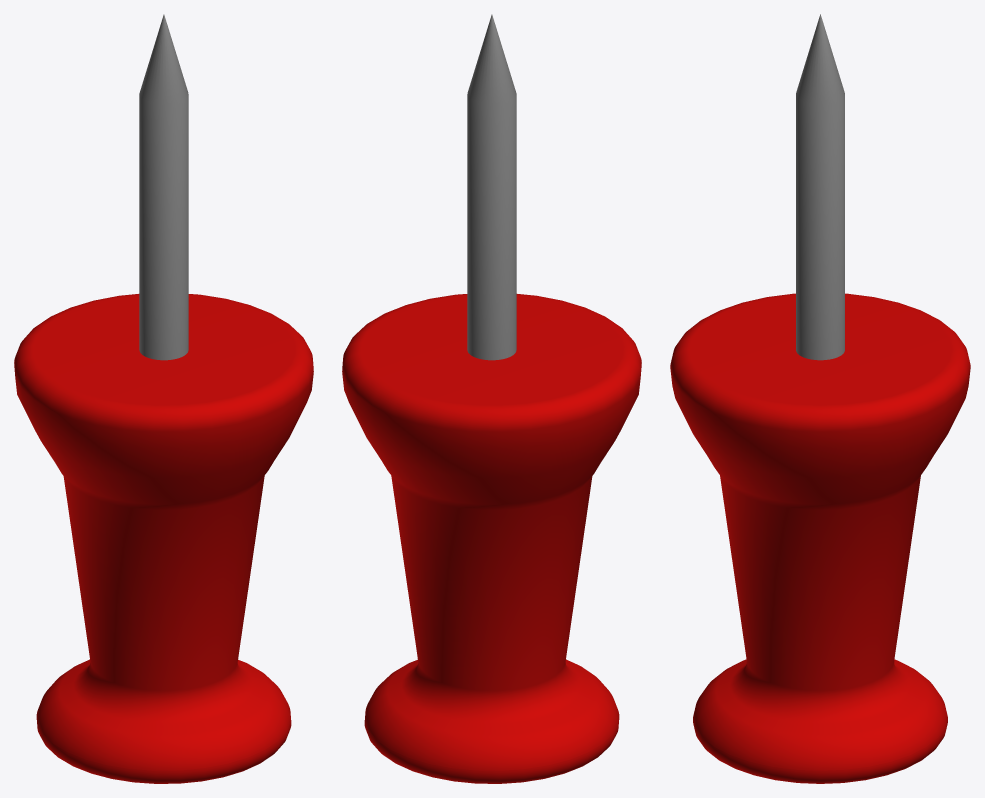
File: pin.fbx
3 views of the same model, side by side, from view 1: azimuth 30°, elevation 25°; view 2: azimuth 150°, elevation 25°; view 3: azimuth 270°, elevation 25° (orthographic).
Parts seen in each view (by area): view 1: Circle, Circle001; view 2: Circle, Circle001; view 3: Circle, Circle001.
Boxes of the visible parts, box(x1,y1,x2,y2) form: Circle: box(14, 294, 313, 783); Circle001: box(139, 14, 188, 360); Circle: box(342, 294, 641, 783); Circle001: box(467, 14, 516, 360); Circle: box(670, 293, 970, 783); Circle001: box(796, 14, 844, 360).
Bounding box in the file's own units: 2.3 × 6.09 × 2.3.
